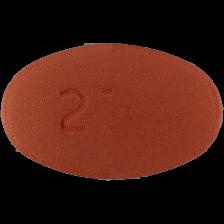68382-271: (0, 0, 224, 224)
